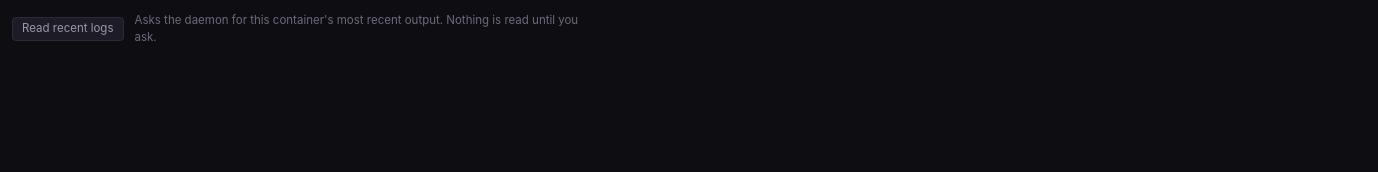
Test: ContainerLogPanel › reads logs once when opened and does not re-read on global refreshAll
Click the button "Read recent logs" at (68, 29), box x1=12 y1=17 x2=124 y2=41
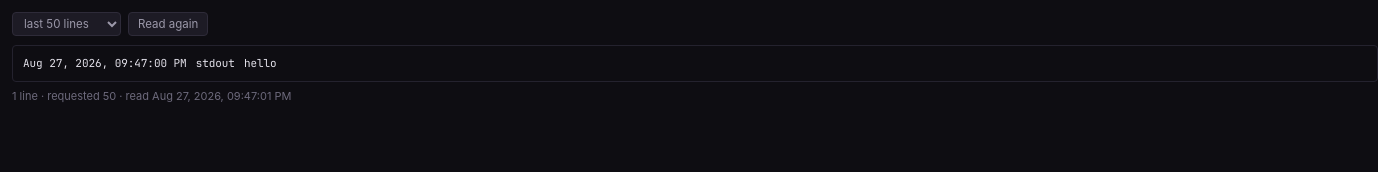
expect the text "hello" is shown: met, box x1=244 y1=56 x2=277 y2=70
